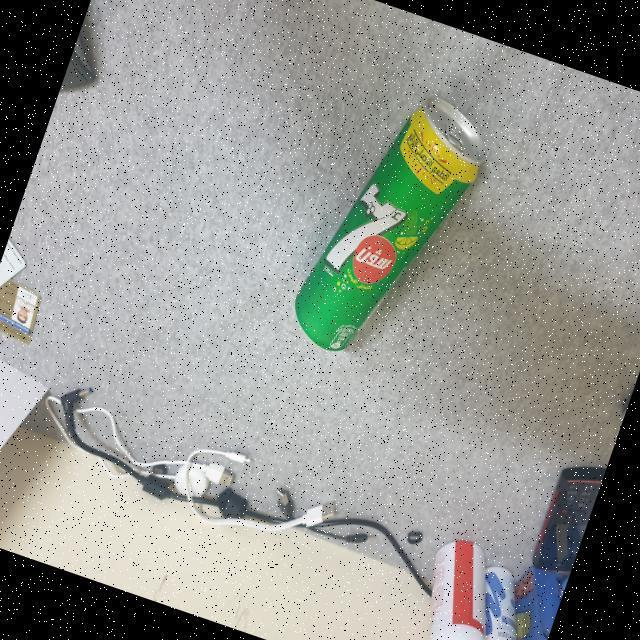can: (276, 70, 505, 391)
